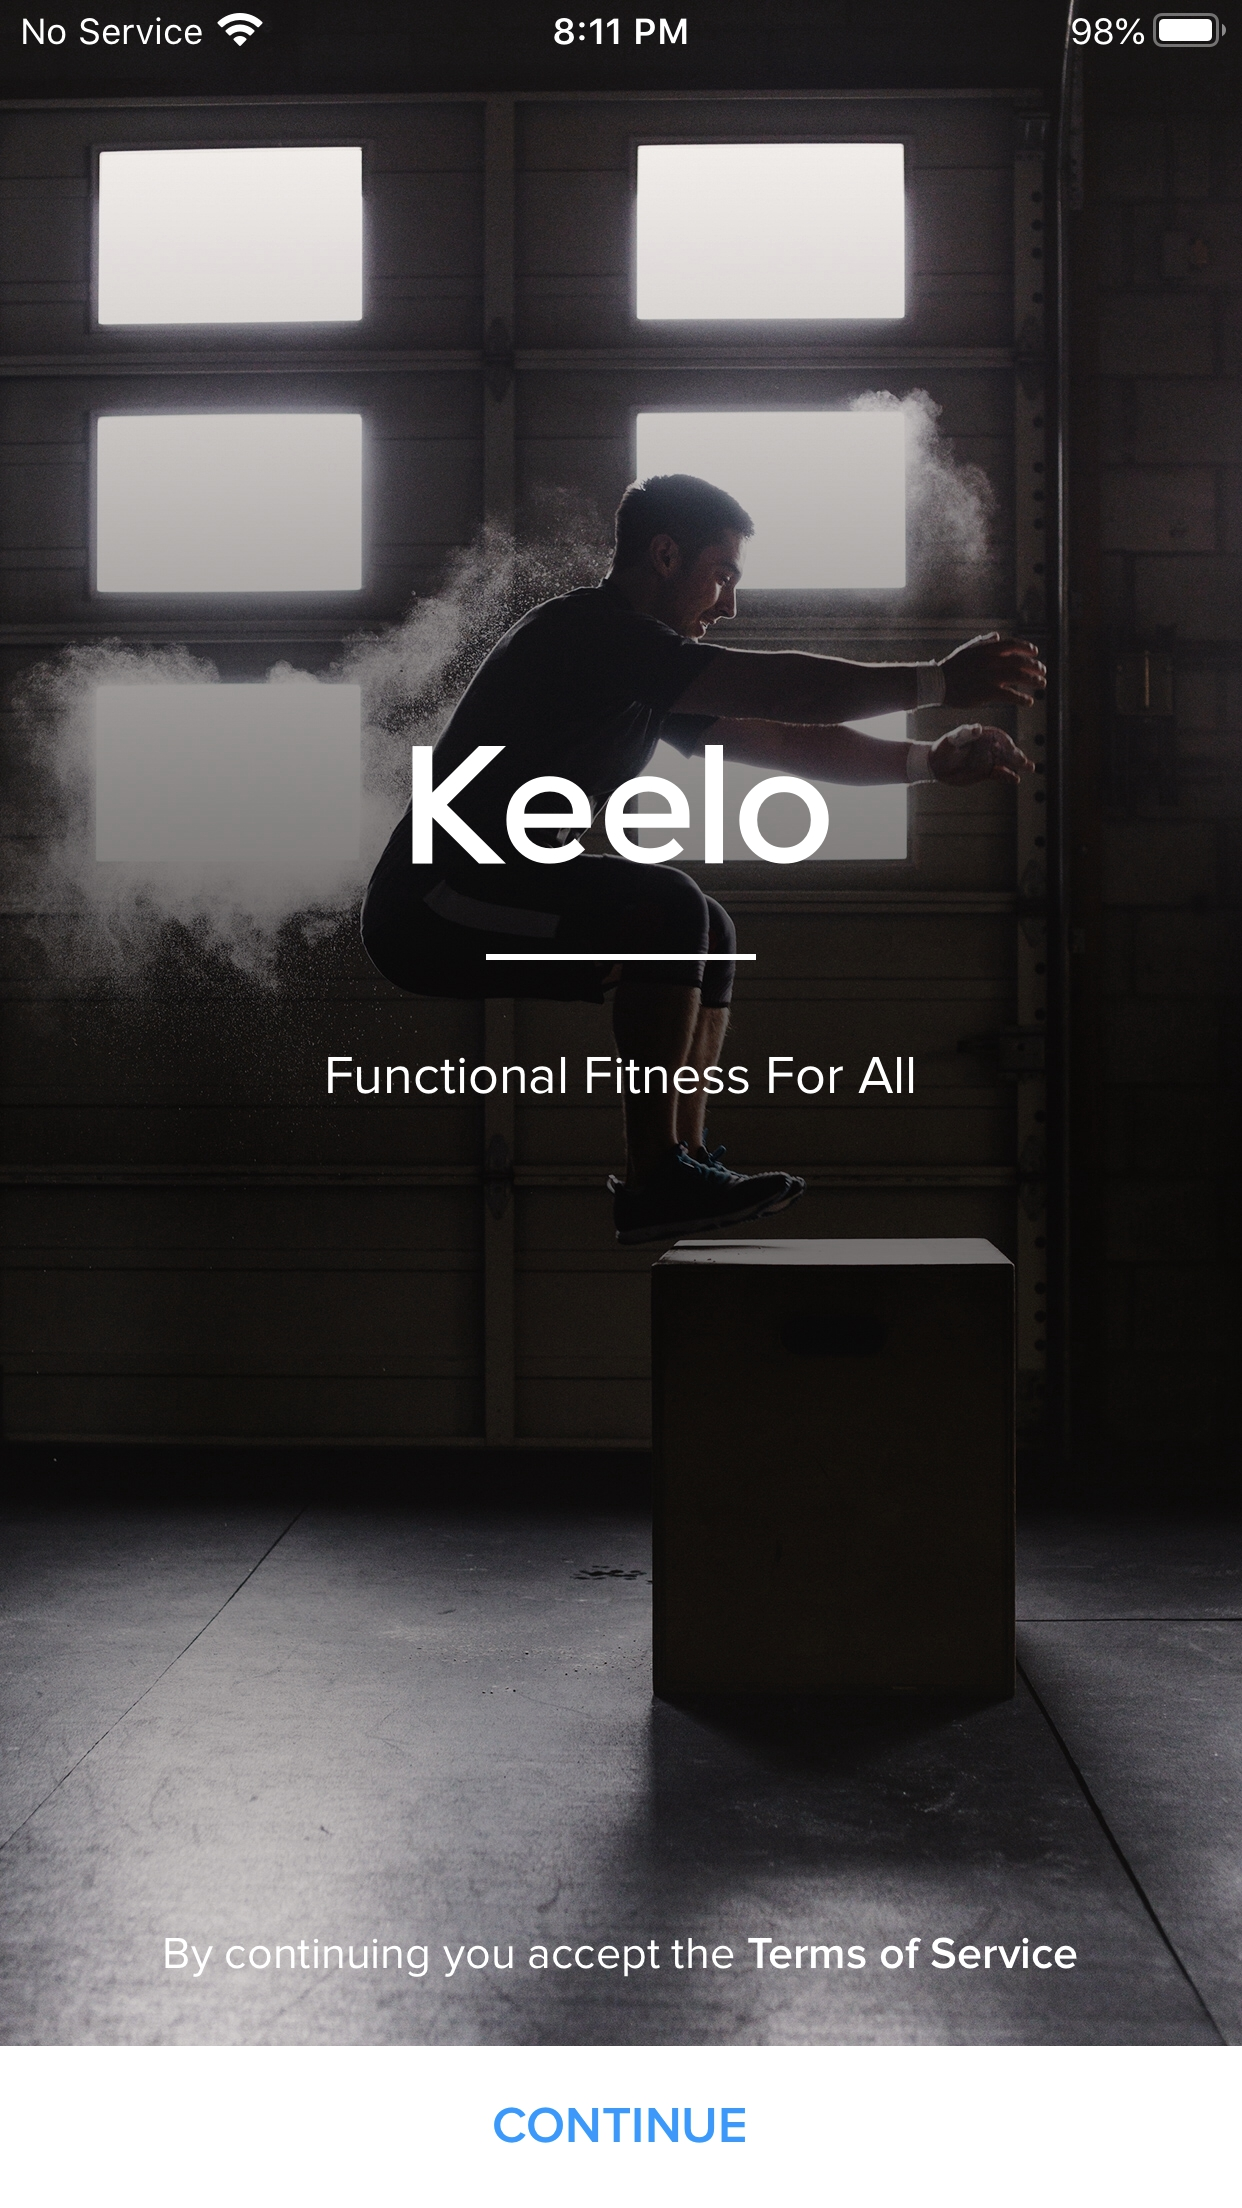BackgroundImage: (2, 2, 1242, 2046)
Text: (412, 745, 830, 864), (165, 1937, 1077, 1977), (328, 1057, 914, 1093)
TextButton: (2, 2046, 1242, 2208)
UpperTaskBar: (2, 2, 1242, 47)
